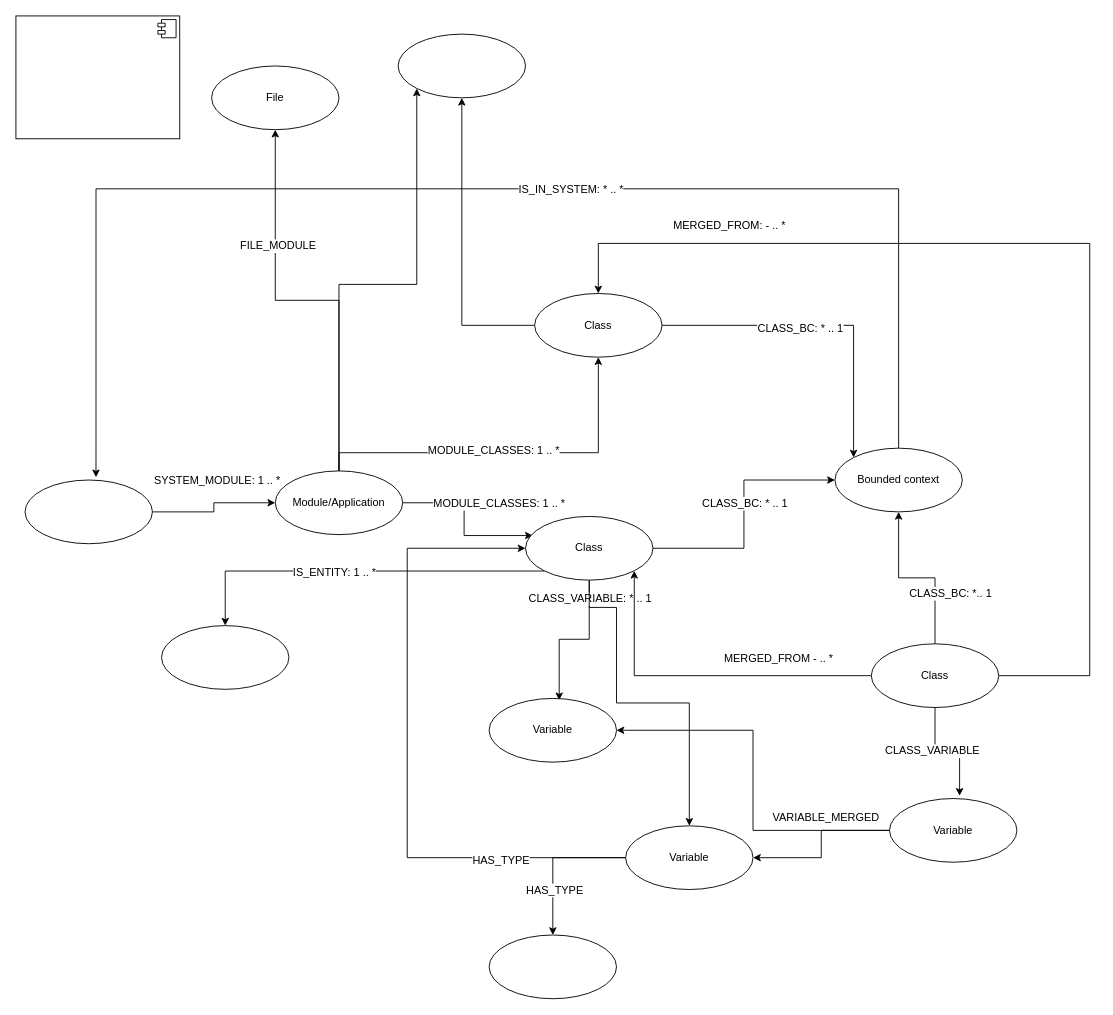
Image size: 1113x1015. Some labels were removed from this diagram. Here are the shapes that lost their labels. From the top down, the centre of each, then its label:
At point (97, 77): "method->classes module->files file->classes file->methods".
At point (461, 65): "Method".
At point (88, 511): "System".
At point (225, 657): "Entity -statically".
At point (552, 966): "Primitive".
